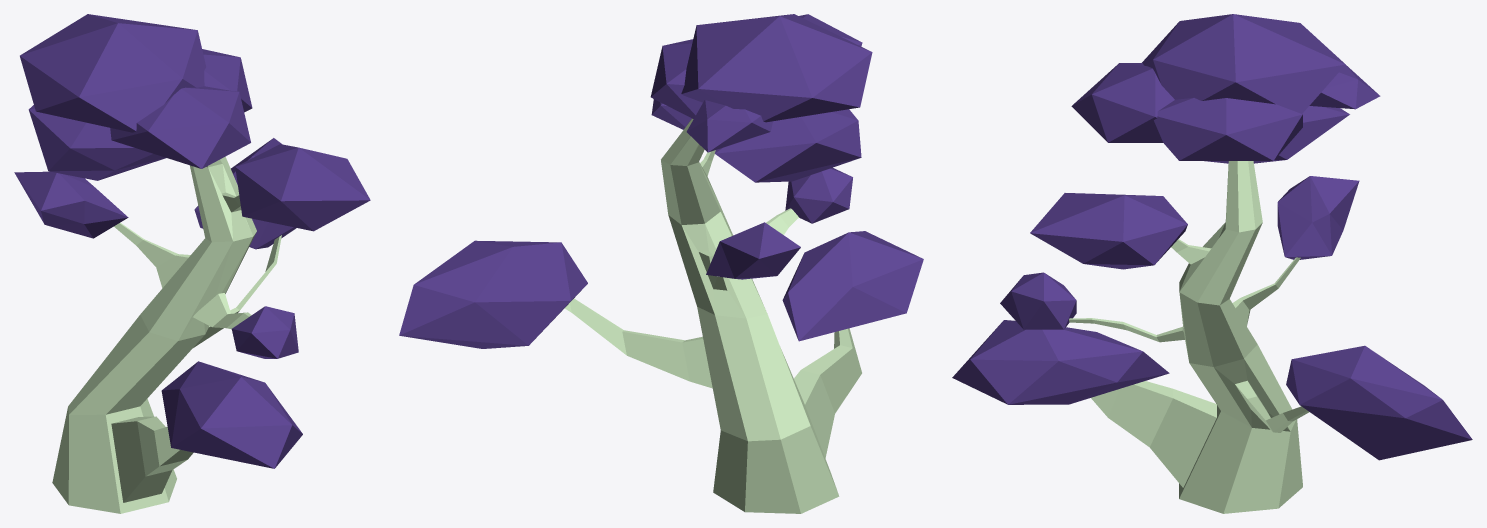
Rendered from BoomFixeddd.fbx.
3 views of the same model, side by side, from view 1: azimuth 30°, elevation 25°; view 2: azimuth 150°, elevation 25°; view 3: azimuth 270°, elevation 25° (orthographic).
Visible parts, largest first — view 1: Tree; view 2: Tree; view 3: Tree.
Boxes of the visible parts, x1=… form: Tree: x1=14, y1=14, x2=370, y2=513; Tree: x1=399, y1=14, x2=923, y2=513; Tree: x1=952, y1=14, x2=1472, y2=513.
Bounding box in the file's own units: 1062 × 1360 × 1357.
